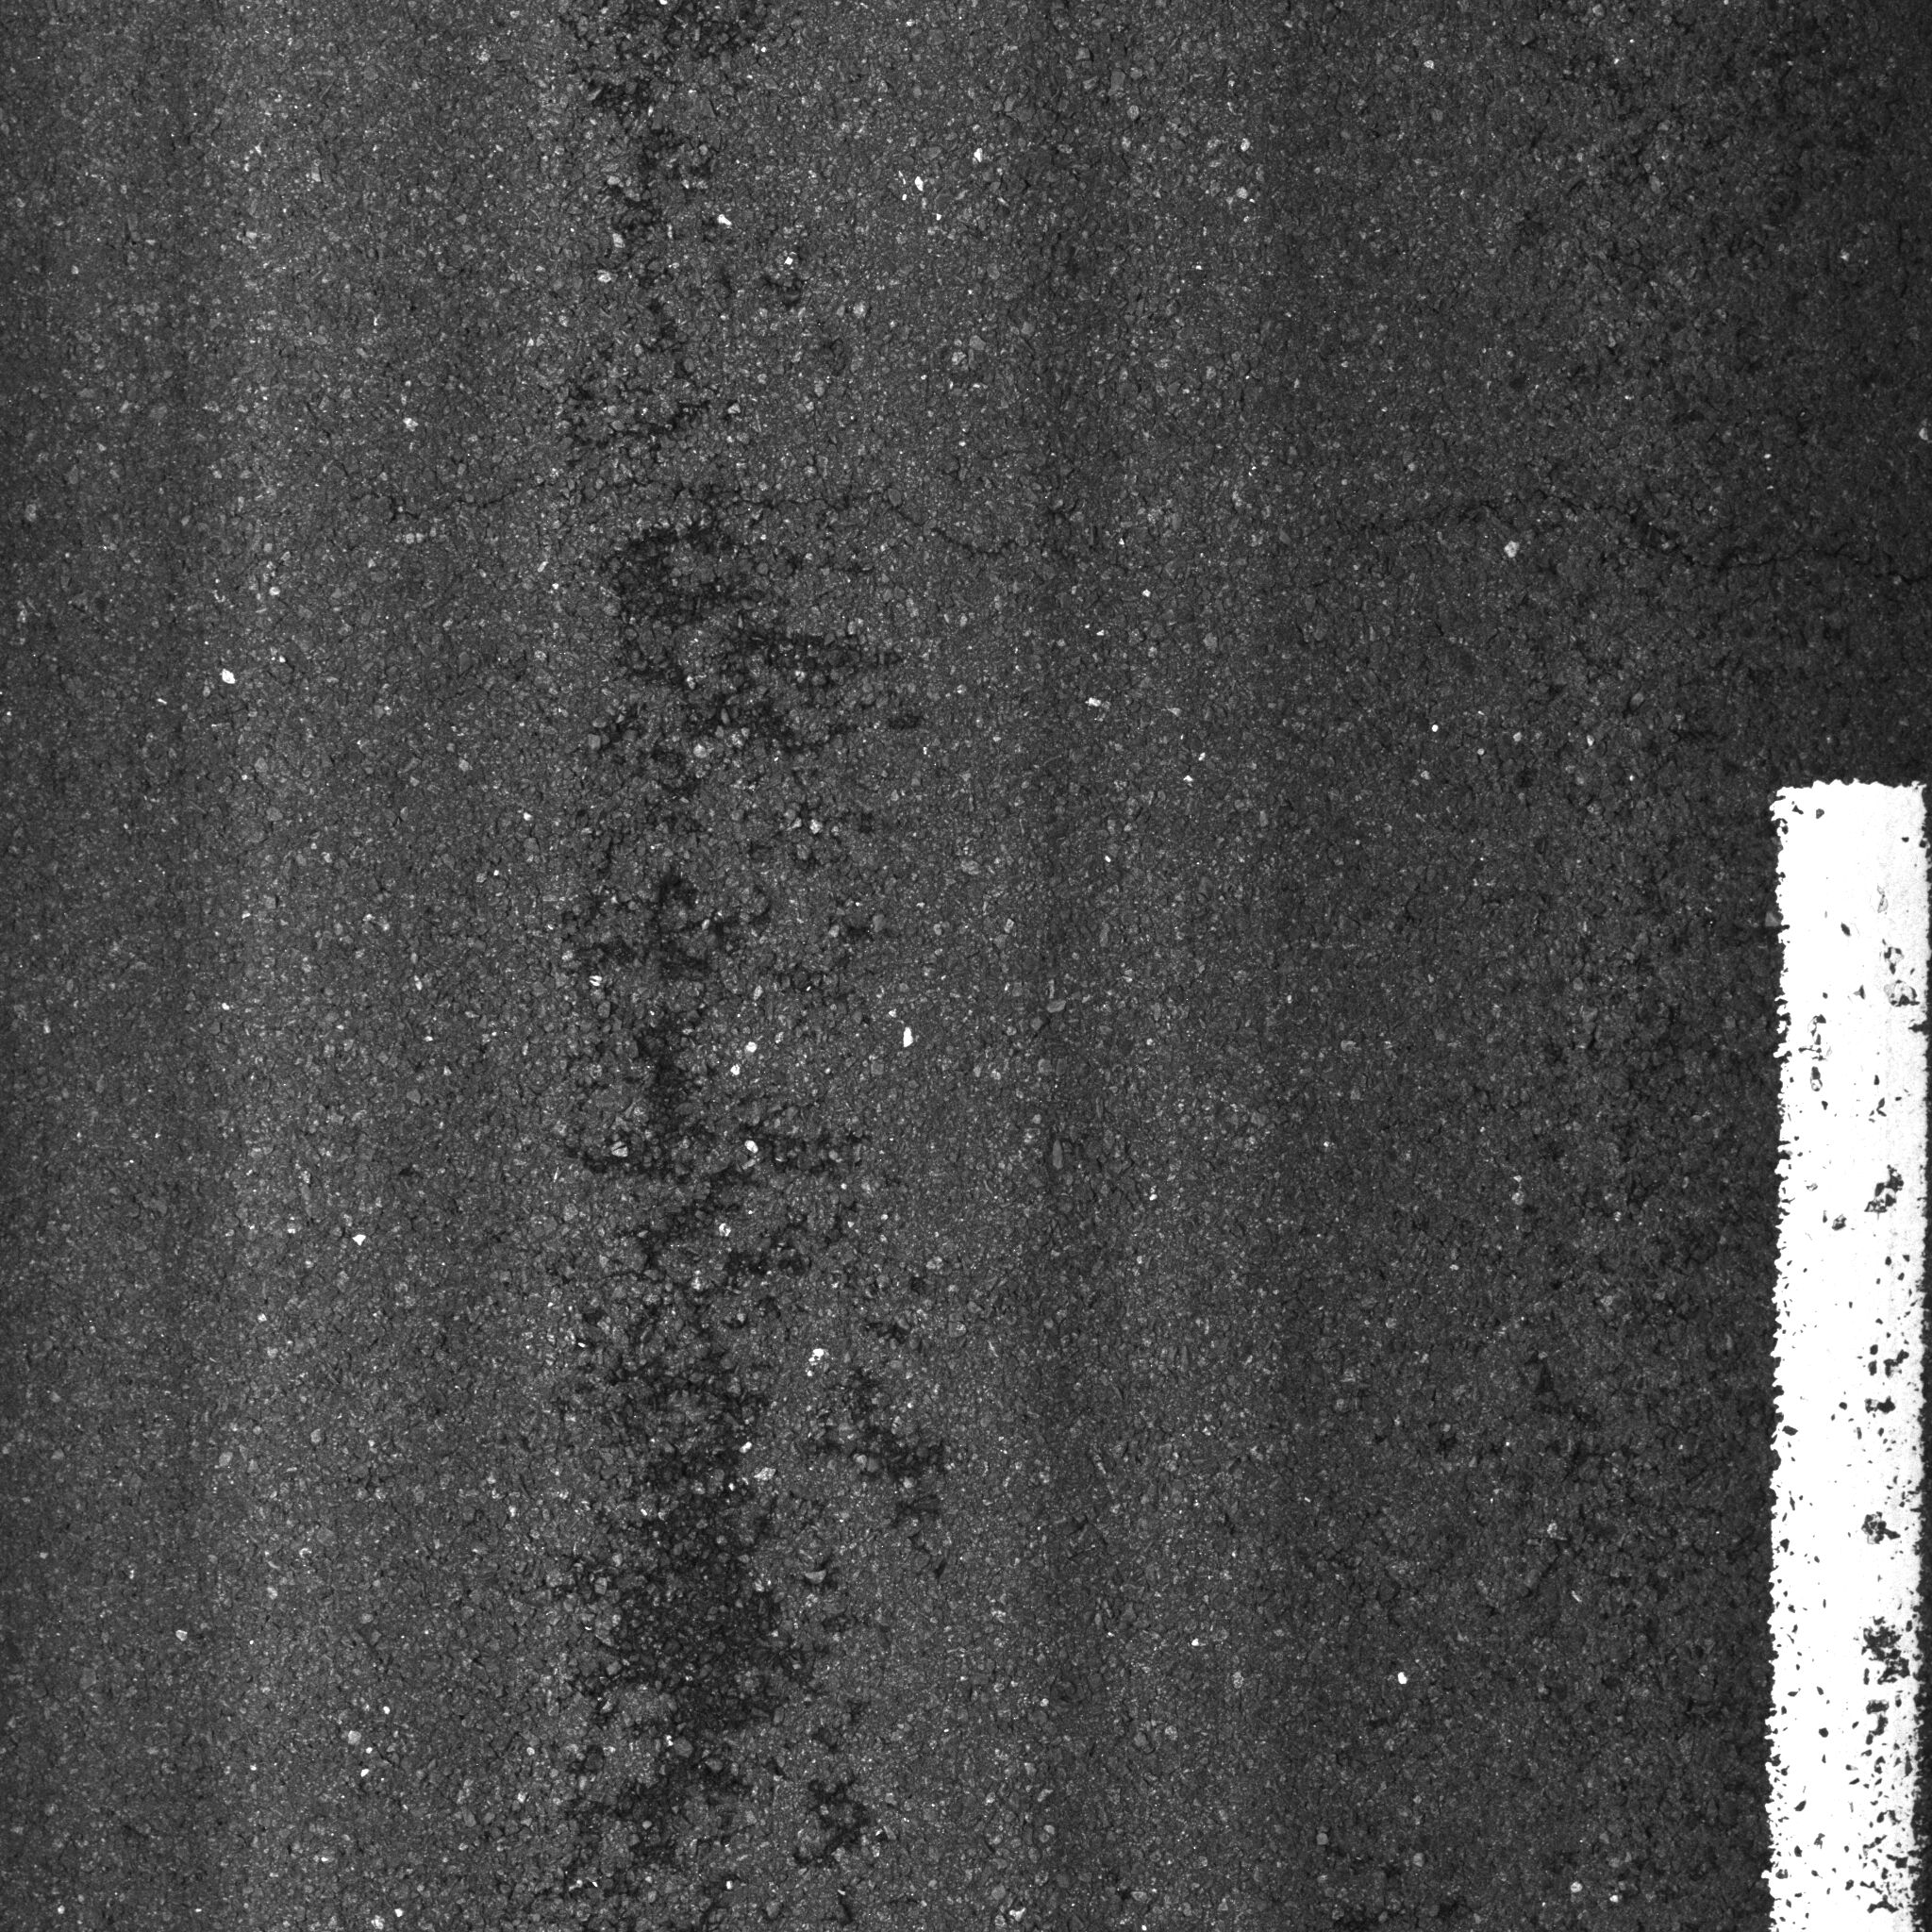transeverse: (324, 428, 1920, 602)
